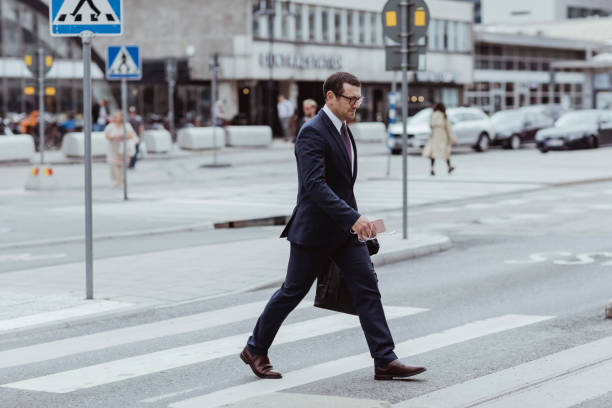car: (394, 108, 496, 152), (537, 110, 610, 150)
pedestrian: (52, 1, 118, 34), (106, 47, 141, 79)
